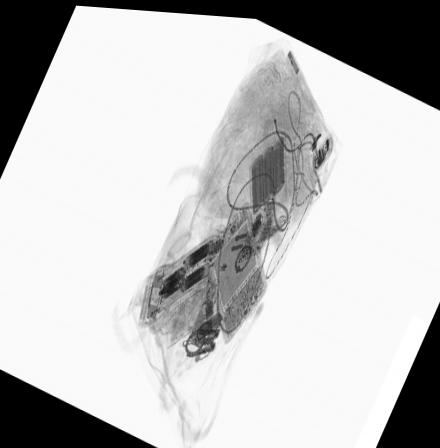Powerbank: (250, 122, 284, 221)
